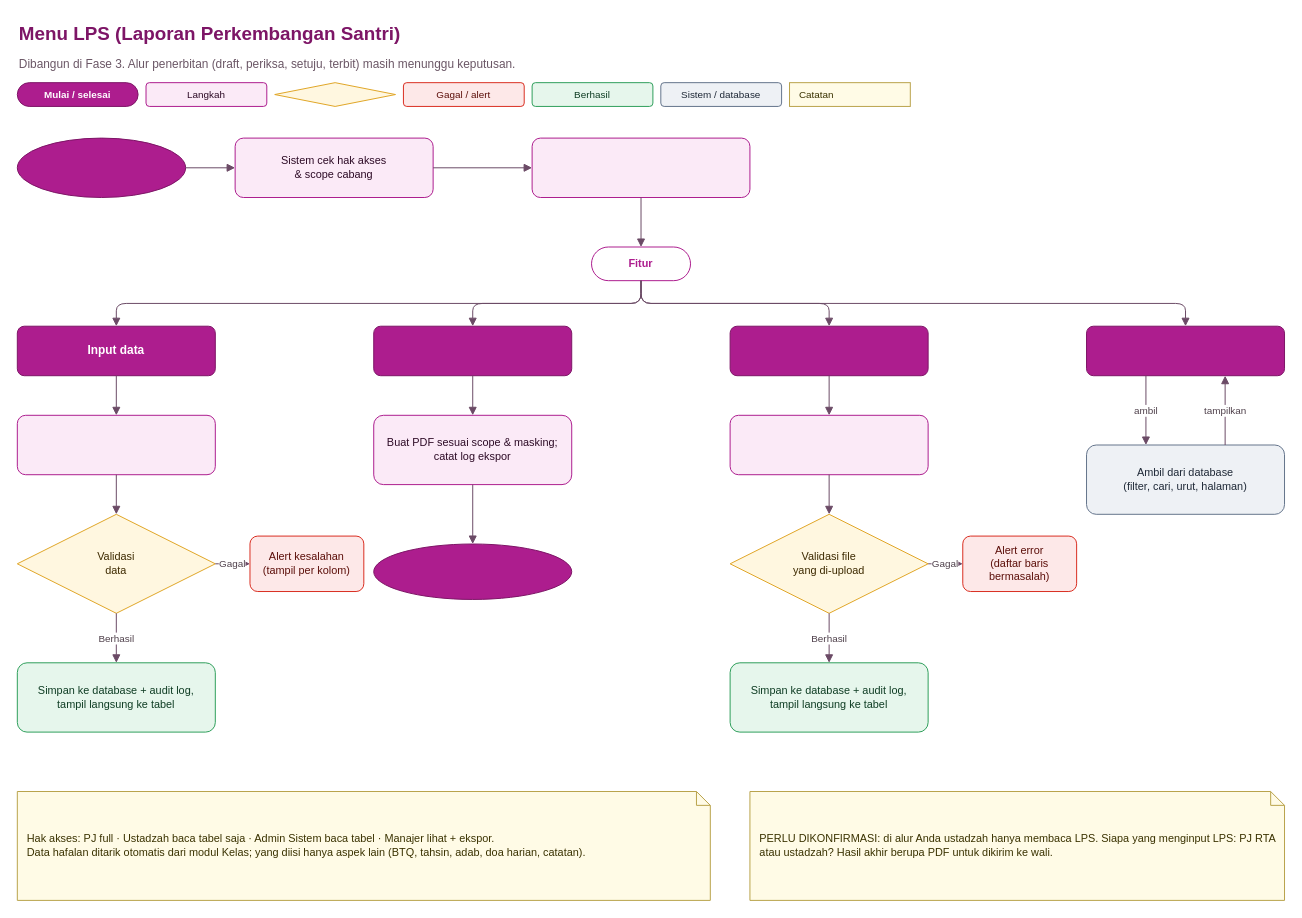
Some shapes in this 1302 by 918 pixel diagram are drawn without their labels. The centre of each missing label's shape, as x and y in pixels:
"Ambil data LPS santri dari server" belongs at point 640,167.
"Buka menu LPS" belongs at point 101,167.
"Ekspor" belongs at point 472,350.
"Formulir LPS (santri, periode, nilai, catatan)" belongs at point 115,444.
"Impor data" belongs at point 828,350.
"Keputusan" belongs at point 335,94.
"Selesai" belongs at point 472,571.
"Table data" belongs at point 1185,350.
"User upload file (template xlsx / csv)" belongs at point 828,444.
